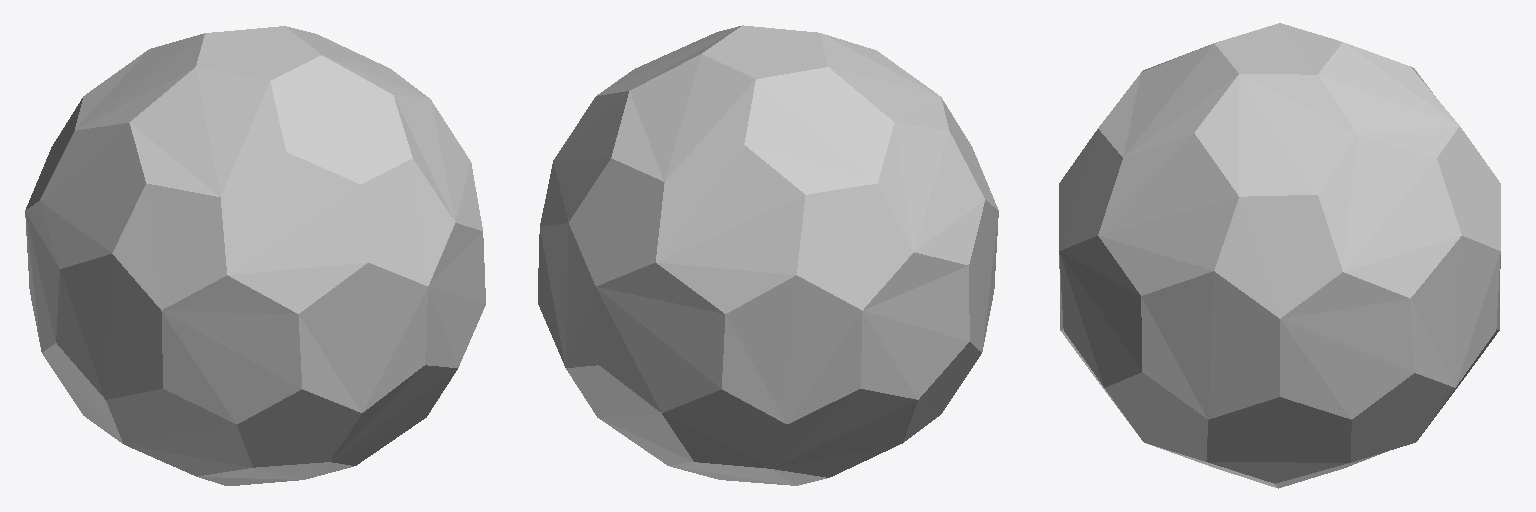
File: football.t2.obj
3 renders of one model, left to right at view 1: azimuth 30°, elevation 25°; view 2: azimuth 150°, elevation 25°; view 3: azimuth 270°, elevation 25°, orthographic.
Visible parts, largest first — view 1: Icosphere; view 2: Icosphere; view 3: Icosphere.
Part boxes in pixels (bbox=[...]): Icosphere: bbox=[25, 26, 485, 485]; Icosphere: bbox=[538, 25, 998, 485]; Icosphere: bbox=[1059, 23, 1500, 488].
Bounding box in the file's own units: 1.86 × 1.81 × 1.77.